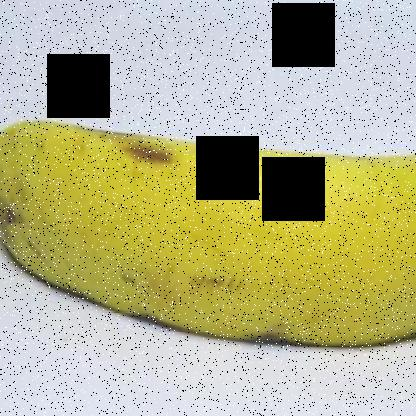freshripe: (0, 94, 415, 368)
